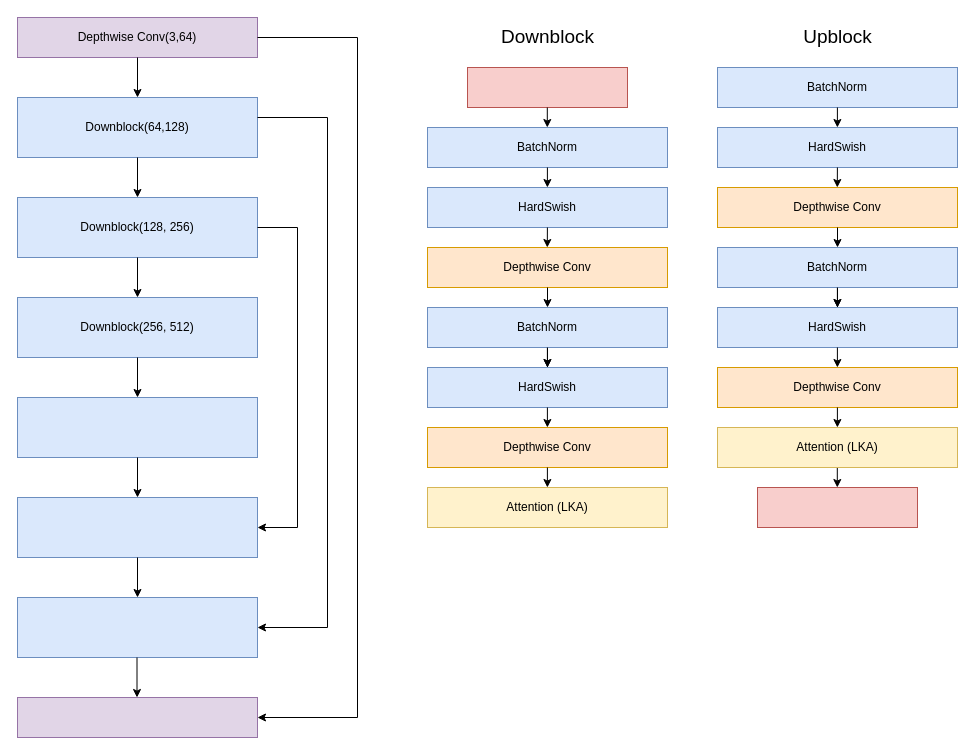
Some shapes in this 975 by 755 pixel diagram are drawn without their labels. The shapes that lost their labels are listed below. From the top down, each one's centre as x and y in pixels, then its label:
At [547,87]: "SPDConv".
At [137,427]: "Upblock(512, 256)".
At [137,527]: "Upblock(512, 128)".
At [837,507]: "ConvTranspose".
At [137,627]: "Upblock(256,64)".
At [137,717]: "Conv2d(128,1)".
